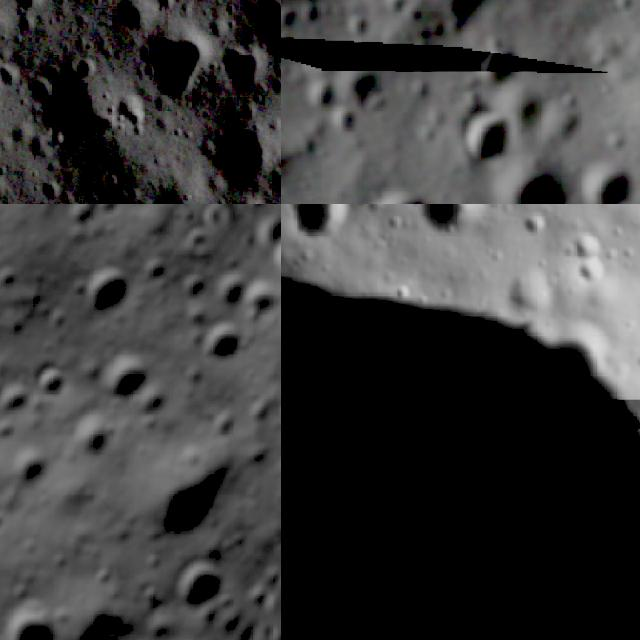crater: (281, 226, 640, 640), (127, 449, 239, 562), (19, 47, 123, 159), (129, 16, 218, 106), (153, 540, 239, 632), (62, 248, 151, 336), (204, 114, 281, 200), (85, 340, 159, 414), (49, 587, 149, 640), (189, 316, 253, 382), (56, 409, 119, 471), (403, 204, 496, 244), (458, 107, 518, 168), (0, 589, 70, 640), (217, 39, 271, 104), (469, 39, 531, 93), (206, 260, 261, 318), (127, 376, 182, 433), (2, 442, 56, 498), (576, 157, 640, 204), (281, 204, 351, 245), (233, 267, 281, 326), (24, 357, 74, 408), (503, 167, 569, 204), (241, 0, 281, 57), (136, 250, 183, 298), (174, 218, 219, 262), (570, 254, 613, 294), (174, 267, 215, 308), (562, 228, 608, 264), (109, 0, 149, 41), (111, 93, 151, 133), (304, 77, 342, 114), (261, 284, 281, 347), (330, 103, 367, 137), (0, 381, 33, 419), (0, 256, 28, 299), (236, 577, 268, 614), (32, 173, 67, 204), (514, 214, 552, 242), (4, 0, 46, 22), (0, 56, 25, 91), (0, 410, 22, 449), (401, 0, 429, 29), (0, 497, 16, 545), (281, 3, 303, 34), (346, 16, 372, 42), (378, 0, 412, 18), (610, 0, 640, 20), (300, 0, 323, 26), (0, 369, 12, 418), (88, 204, 122, 221), (430, 14, 448, 40), (272, 508, 281, 552), (281, 144, 290, 180)
